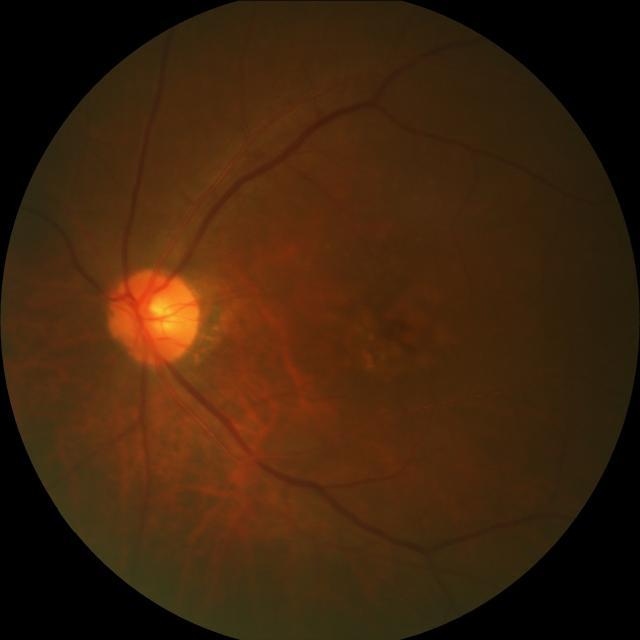OC: (133, 296, 177, 340)
OD: (108, 266, 202, 364)
